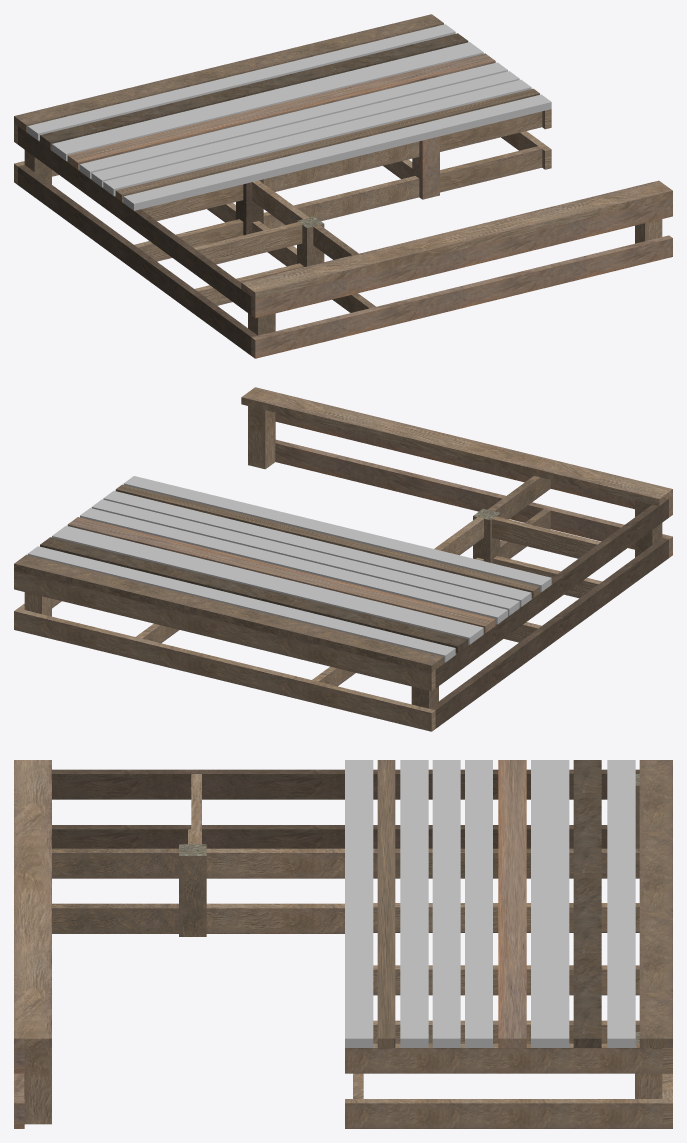
Rendered from WoodFloorPeiceC.fbx.
3 views of the same model, one above another, from view 1: azimuth 30°, elevation 25°; view 2: azimuth 150°, elevation 25°; view 3: azimuth 270°, elevation 25° (orthographic). The views are drawn at different scales.
Visible parts, largest first — view 1: WoodFloorPeiceC; view 2: WoodFloorPeiceC; view 3: WoodFloorPeiceC.
Part boxes in pixels (x1=…): WoodFloorPeiceC: x1=14, y1=14, x2=672, y2=358; WoodFloorPeiceC: x1=14, y1=387, x2=672, y2=731; WoodFloorPeiceC: x1=14, y1=760, x2=672, y2=1128.
Bounding box in the file's own units: 374 × 56.6 × 374.
